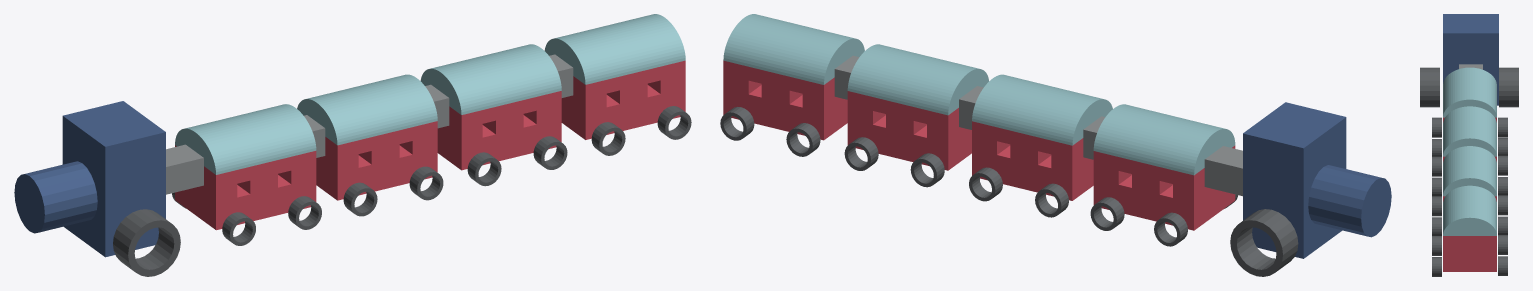
The model's file is the_model.glb.
The picture shows the model from 3 angles, left to right: view 1: azimuth 30°, elevation 25°; view 2: azimuth 150°, elevation 25°; view 3: azimuth 270°, elevation 25°; orthographic projection. The views are drawn at different scales.
Parts seen in each view (by area): view 1: Mesh_Mesh_head_geo.001_lambert2SG.001; view 2: Mesh_Mesh_head_geo.001_lambert2SG.001; view 3: Mesh_Mesh_head_geo.001_lambert2SG.001.
Part boxes in pixels (box(x1,y1,x2,y2)): Mesh_Mesh_head_geo.001_lambert2SG.001: box(14, 14, 691, 276); Mesh_Mesh_head_geo.001_lambert2SG.001: box(720, 14, 1391, 276); Mesh_Mesh_head_geo.001_lambert2SG.001: box(1420, 14, 1518, 276).
Bounding box in the file's own units: 240 × 45 × 49.5.
